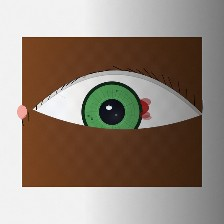hemorrhage_spot: (77, 74, 160, 141)
